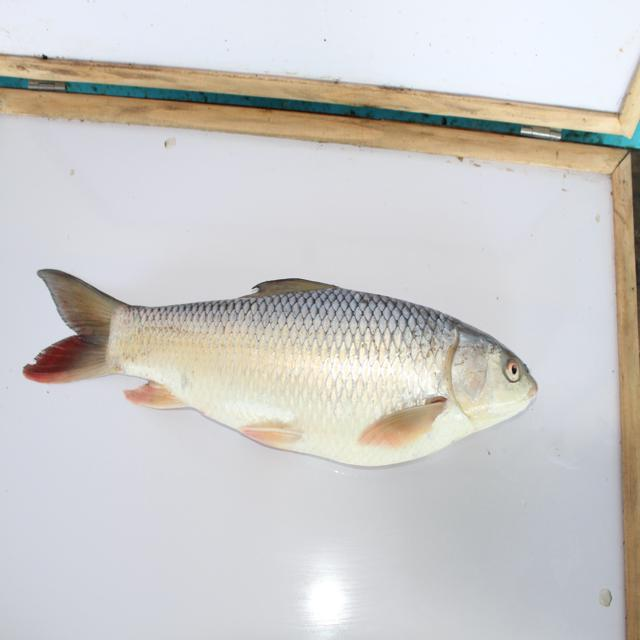Mori: (21, 247, 553, 479)
